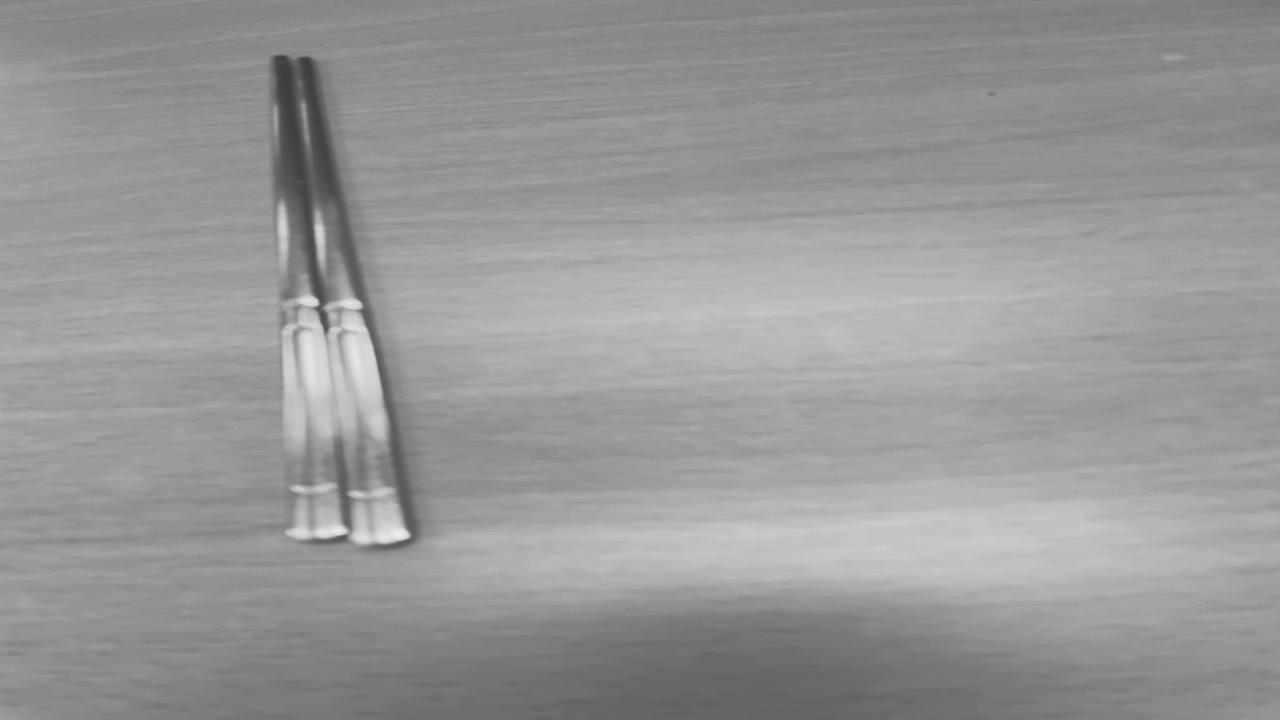chopstick: (271, 56, 408, 545)
